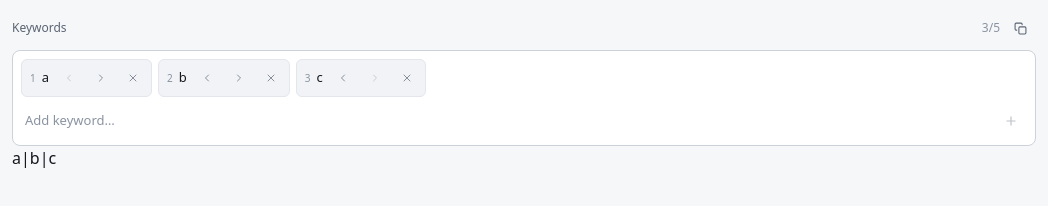
Scenario: KeywordEditor › reorders and removes with labelled buttons
The image size is (1048, 206).
Click the button named "Move “c” earlier": (343, 78) 327,62 -> 359,94
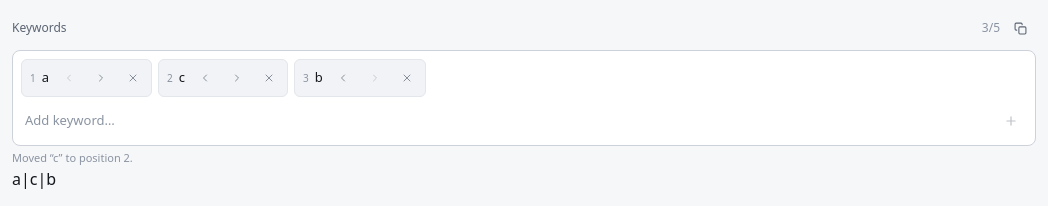
Expected: the text with test id "value" reads "a|c|b", 12,168 -> 56,190
Click the button named "Remove “a”": (133, 78) 117,62 -> 149,94
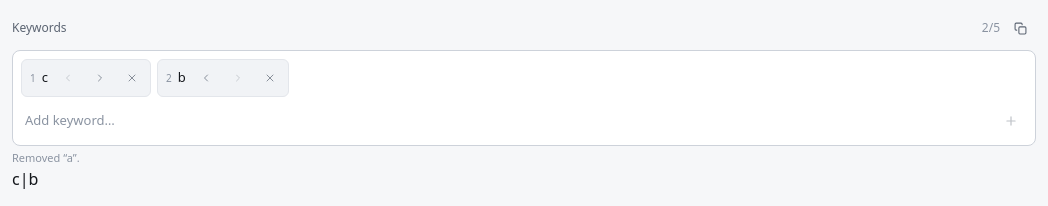
Expected: the text with test id "value" reads "c|b", 12,168 -> 38,190
